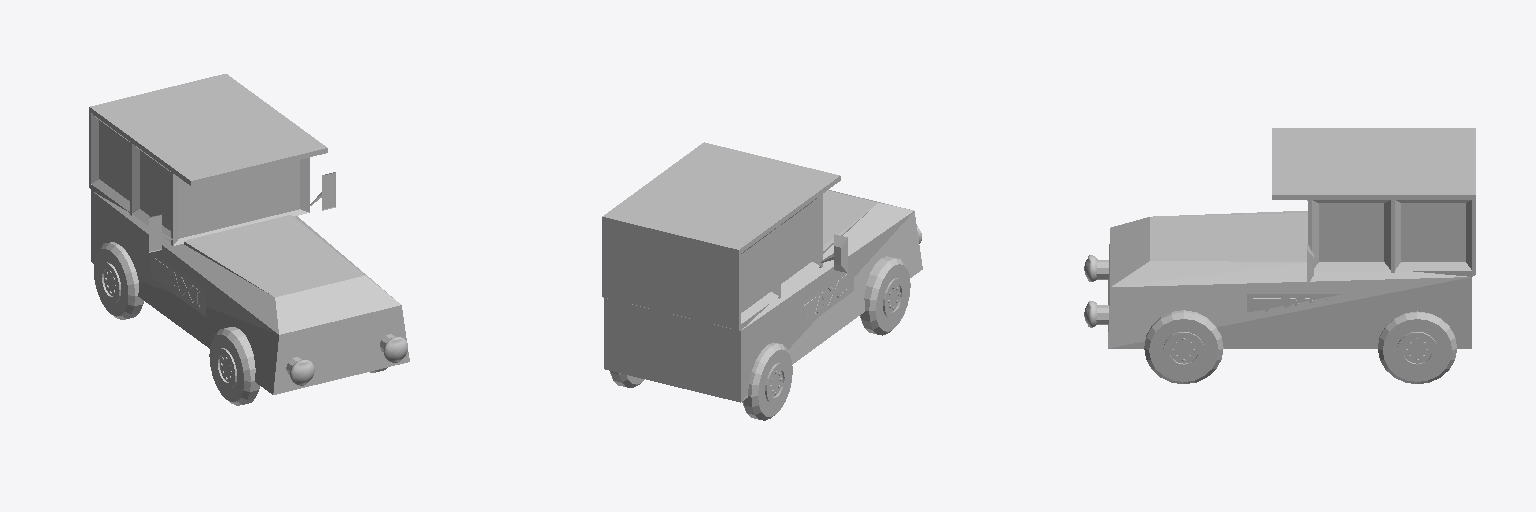
File: taxi.obj
The picture shows the model from 3 angles: view 1: azimuth 30°, elevation 25°; view 2: azimuth 150°, elevation 25°; view 3: azimuth 270°, elevation 25°; orthographic projection.
Parts seen in each view (by area): view 1: pCube1, polySurface5, polySurface3, polySurface8, pCube3; view 2: pCube1, polySurface5, polySurface3, polySurface8, pCube4; view 3: pCube1, polySurface4, polySurface2, polySurface7.
Part boxes in pixels (left/top/right/bottom): pCube1: left=89, top=74, right=409, bottom=394; polySurface5: left=209, top=327, right=259, bottom=405; polySurface3: left=94, top=242, right=143, bottom=319; polySurface8: left=151, top=252, right=205, bottom=316; pCube3: left=310, top=172, right=335, bottom=210; pCube1: left=602, top=142, right=922, bottom=402; polySurface5: left=860, top=256, right=910, bottom=335; polySurface3: left=742, top=342, right=792, bottom=420; polySurface8: left=799, top=265, right=853, bottom=330; pCube4: left=821, top=234, right=847, bottom=272; pCube1: left=1108, top=128, right=1475, bottom=348; polySurface4: left=1144, top=310, right=1223, bottom=383; polySurface2: left=1378, top=311, right=1456, bottom=383; polySurface7: left=1247, top=294, right=1340, bottom=312.
Size of the model in its own units: 2.35 by 2.27 by 4.26.